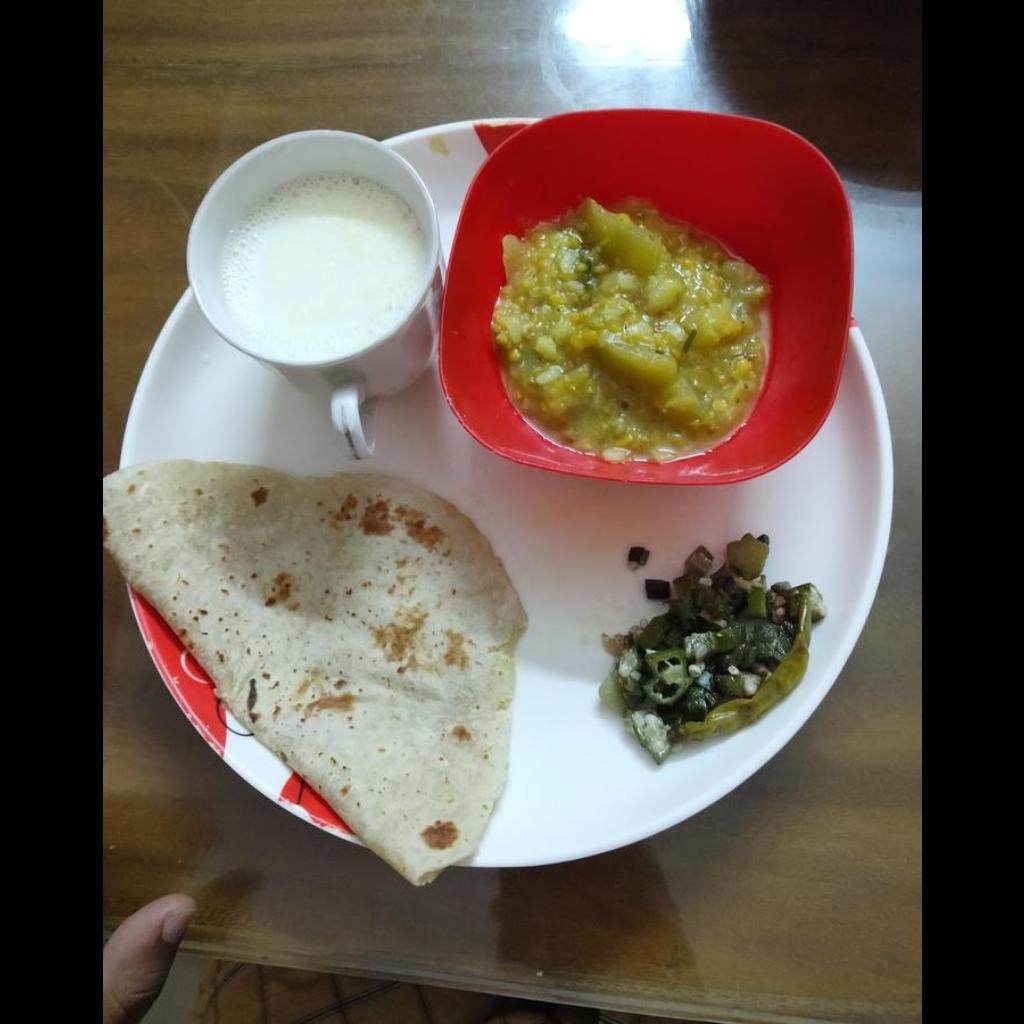daal: (490, 205, 754, 463)
milk: (219, 179, 422, 361)
okra: (609, 535, 817, 767)
ruti: (104, 463, 525, 881)
